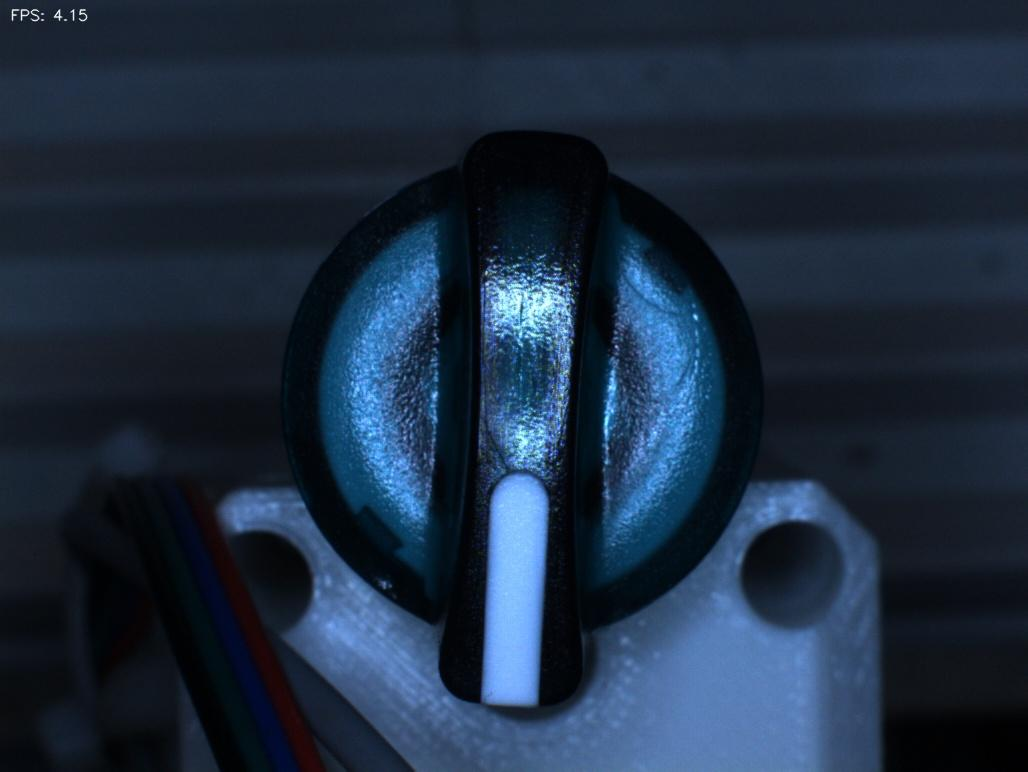Choc: (349, 545, 427, 636)
